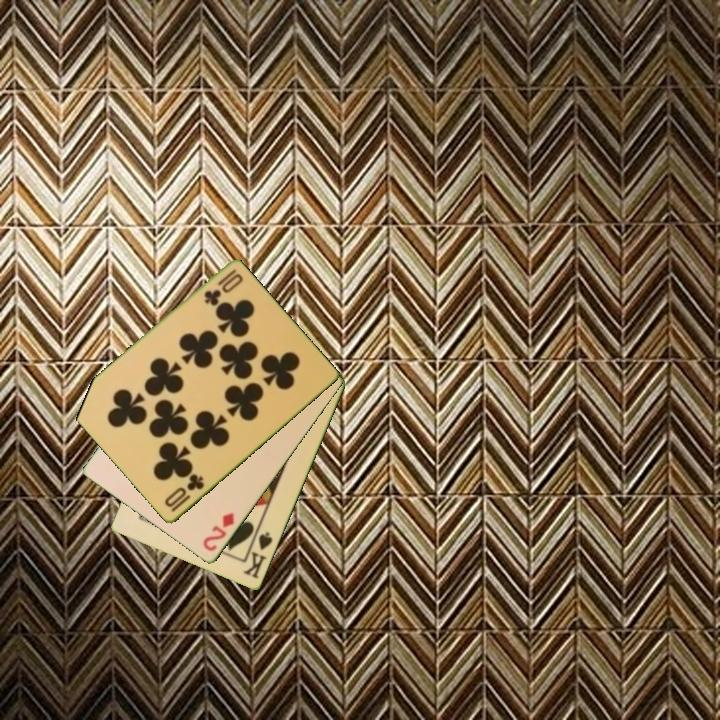10c: (161, 471, 207, 515), (200, 266, 240, 308)
2d: (199, 509, 237, 554)
Ks: (240, 526, 276, 582)
